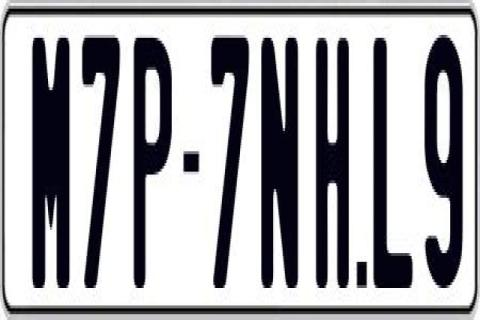0: (80, 29, 123, 285), (211, 38, 249, 306), (422, 35, 460, 303)
H: (314, 32, 348, 300)
L: (374, 29, 414, 297)
M: (30, 35, 73, 303)
N: (258, 29, 295, 297)
P: (132, 32, 177, 288)
